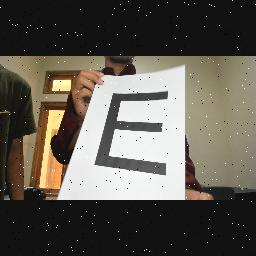e: (92, 88, 172, 182)
